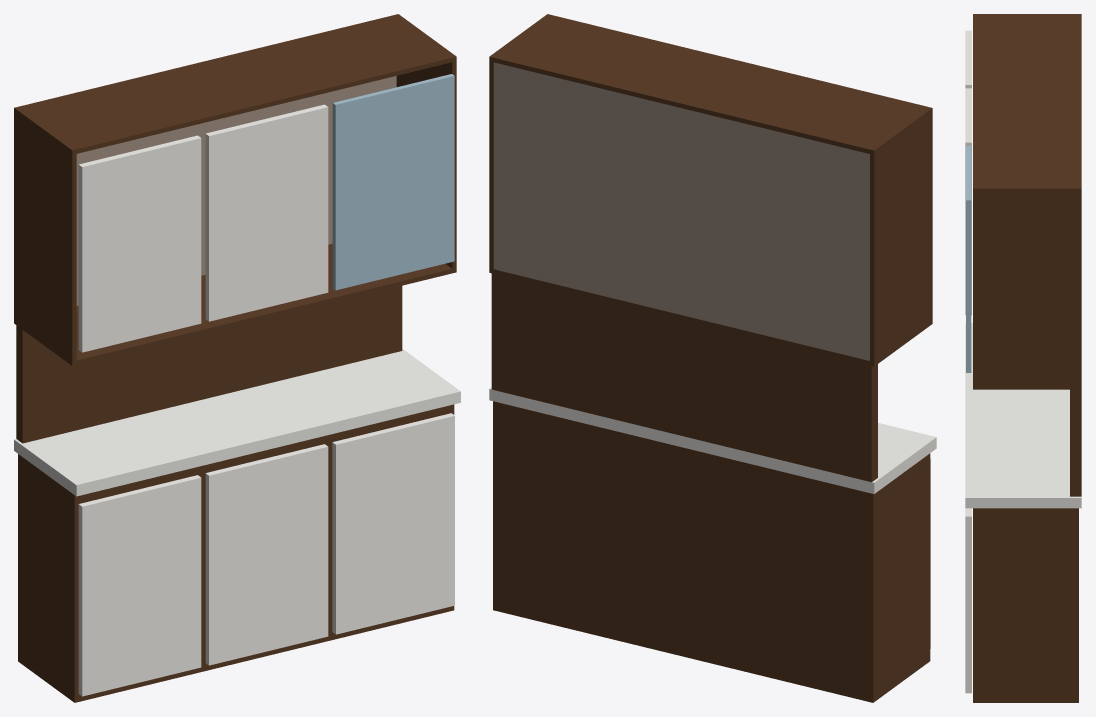
The model's file is sideboard-lite.glb.
3 renders of one model, left to right at view 1: azimuth 30°, elevation 25°; view 2: azimuth 150°, elevation 25°; view 3: azimuth 270°, elevation 25°, orthographic. The views are drawn at different scales.
Parts seen in each view (by area): view 1: material-2-door, material-0-body, material-1-top, material-3-glass, material-4-interior; view 2: material-0-body, material-4-interior, material-1-top; view 3: material-0-body, material-1-top, material-2-door, material-3-glass.
Boxes of the visible parts, bbox=[...] form: material-2-door: bbox=[78, 104, 454, 696]; material-0-body: bbox=[14, 14, 456, 702]; material-1-top: bbox=[14, 349, 460, 496]; material-3-glass: bbox=[332, 74, 454, 290]; material-4-interior: bbox=[76, 76, 396, 305]; material-0-body: bbox=[489, 14, 932, 702]; material-4-interior: bbox=[493, 62, 869, 360]; material-1-top: bbox=[489, 387, 936, 493]; material-0-body: bbox=[973, 14, 1081, 702]; material-1-top: bbox=[965, 323, 1081, 508]; material-2-door: bbox=[965, 30, 971, 693]; material-3-glass: bbox=[966, 146, 971, 372].
Size of the model in its own units: 1.6 by 2.2 by 0.45.
